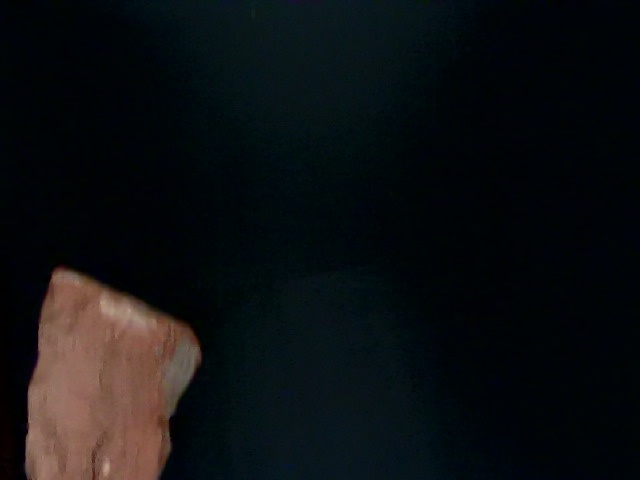KHSLJ: (8, 225, 307, 473)
